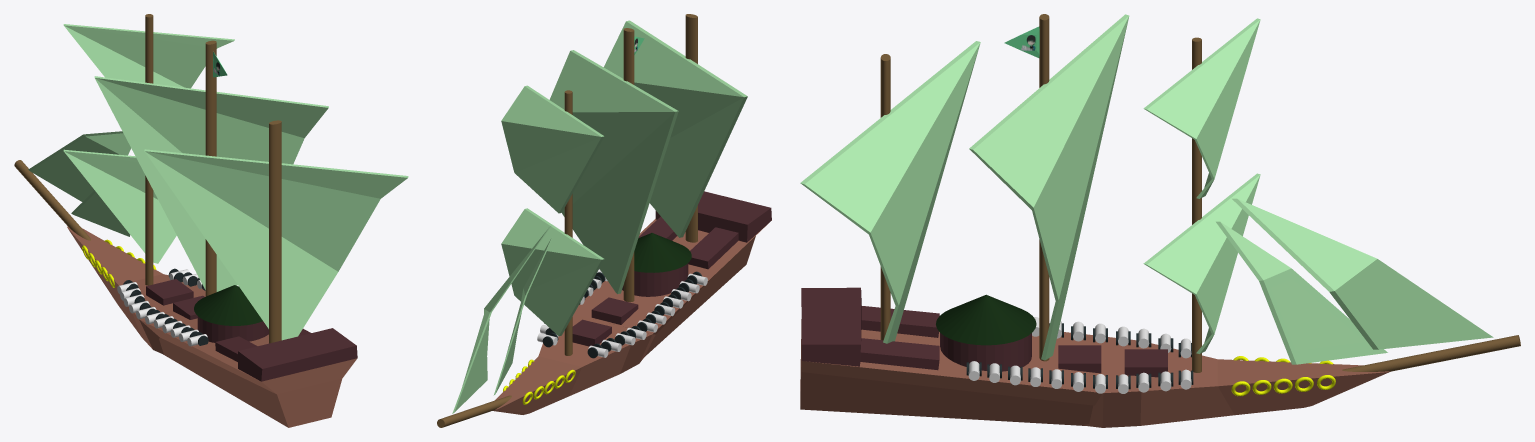
The model's file is my-first-boat.glb.
3 views of the same model, side by side, from view 1: azimuth 30°, elevation 25°; view 2: azimuth 150°, elevation 25°; view 3: azimuth 270°, elevation 25° (orthographic). The views are drawn at different scales.
Visible parts, largest first — view 1: Cube.003, Cube.001, Cube, Cube.002, Cube.004, Cube.009, Cylinder.003, Cube.006, Cone, Cylinder.002, Cylinder.001, Cylinder.004 (+5 smaller); view 2: Cube.001, Cube.003, Cube, Cube.002, Cube.004, Cube.009, Cube.006, Cone, Cube.008, Cylinder.004, Cylinder.002, Cylinder.003 (+6 smaller); view 3: Cube, Cube.001, Cube.003, Cube.006, Cube.005, Cube.002, Cube.004, Cube.009, Cone, Cylinder.004, Cube.007, Cylinder (+6 smaller).
Boxes of the visible parts, bbox=[...] form: Cube.003: bbox=[144, 149, 408, 340]; Cube.001: bbox=[94, 76, 328, 291]; Cube: bbox=[67, 226, 357, 427]; Cube.002: bbox=[63, 24, 234, 88]; Cube.004: bbox=[63, 149, 176, 263]; Cube.009: bbox=[238, 328, 357, 381]; Cylinder.003: bbox=[269, 120, 281, 343]; Cube.006: bbox=[28, 131, 130, 201]; Cone: bbox=[194, 285, 262, 325]; Cylinder.002: bbox=[205, 40, 216, 296]; Cylinder.001: bbox=[145, 14, 153, 285]; Cylinder.004: bbox=[197, 316, 268, 342]; Cube.001: bbox=[549, 50, 678, 294]; Cube.003: bbox=[603, 20, 747, 237]; Cube: bbox=[492, 219, 771, 414]; Cube.002: bbox=[501, 85, 604, 213]; Cube.004: bbox=[501, 208, 604, 335]; Cube.009: bbox=[655, 191, 771, 242]; Cube.006: bbox=[452, 226, 550, 413]; Cone: bbox=[634, 233, 691, 272]; Cube.008: bbox=[688, 227, 738, 269]; Cylinder.004: bbox=[622, 263, 688, 296]; Cylinder.002: bbox=[623, 28, 634, 301]; Cylinder.003: bbox=[685, 14, 697, 242]; Cube: bbox=[800, 319, 1390, 427]; Cube.001: bbox=[969, 14, 1129, 360]; Cube.003: bbox=[800, 41, 980, 343]; Cube.006: bbox=[1232, 198, 1493, 349]; Cube.005: bbox=[1216, 221, 1387, 364]; Cube.002: bbox=[1143, 18, 1260, 198]; Cube.004: bbox=[1143, 173, 1260, 353]; Cube.009: bbox=[801, 287, 861, 366]; Cone: bbox=[936, 294, 1036, 345]; Cylinder.004: bbox=[940, 333, 1031, 371]; Cube.007: bbox=[860, 338, 939, 370]; Cylinder: bbox=[1342, 335, 1520, 371].
Size of the model in its own units: 2.24 by 3.47 by 5.8.
12 materials, 1 textured.
